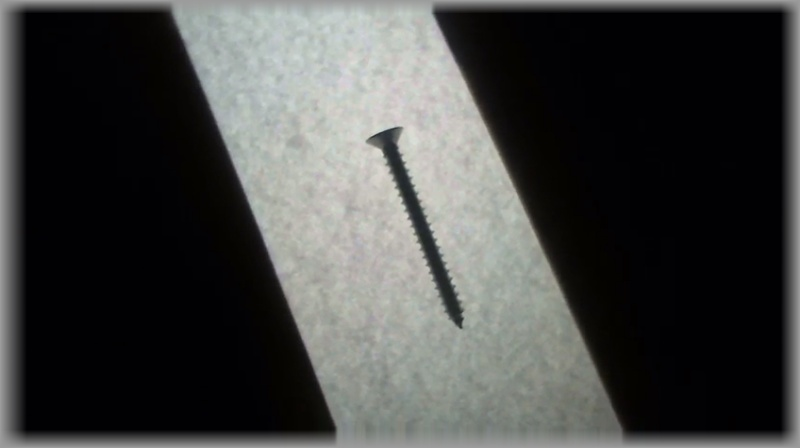S002: (362, 124, 466, 331)
